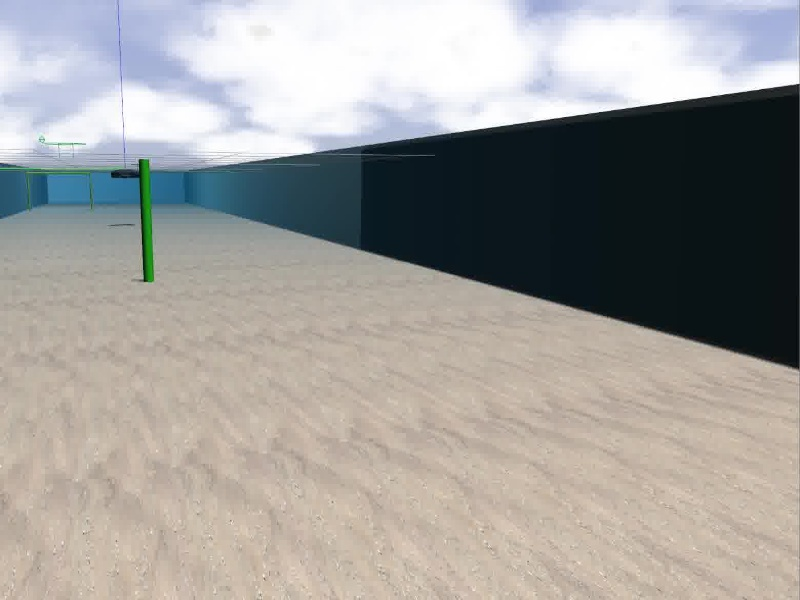gate: (23, 169, 94, 212)
